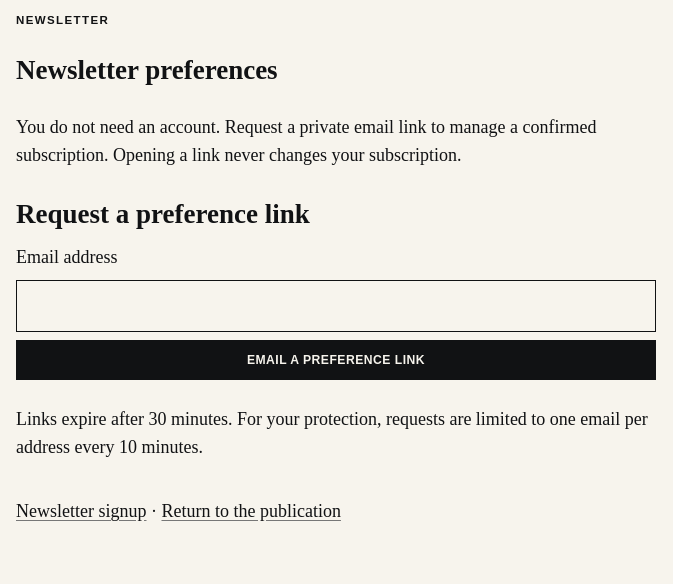
it: email-only newsletter preferences › requests a private link without claiming verification or delivery
In the field labelled "Email address": (336,306) [16,280,656,332], type "reader@example.test"
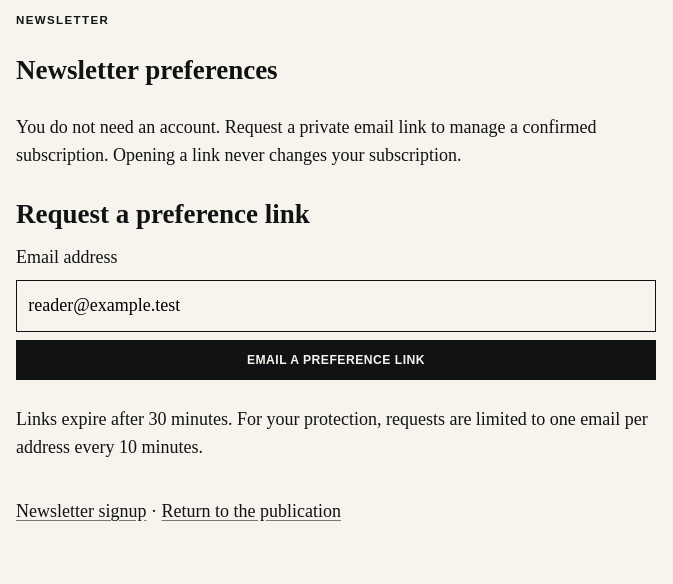
Click the button "Email a preference link": (336,360) [16,340,656,380]
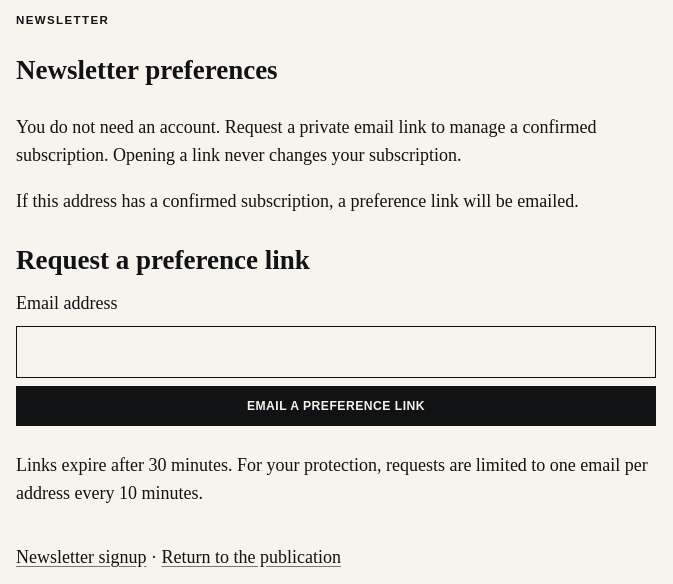
Result: the message shows "If this address" at [16,191,579,211]
Result: the field labelled "Email address" is empty at [16,326,656,378]
